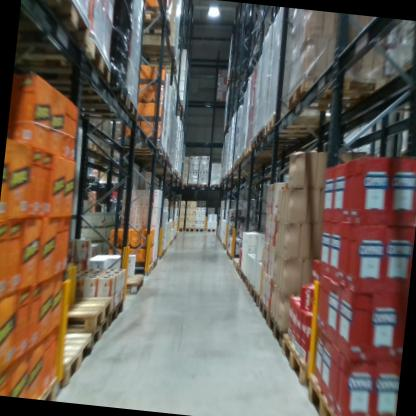pallet: (15, 21, 124, 88), (284, 69, 384, 120), (32, 62, 133, 111), (302, 369, 398, 416), (17, 0, 95, 51), (58, 84, 144, 126), (48, 325, 97, 389), (58, 287, 113, 337), (276, 327, 315, 393), (264, 108, 337, 142), (250, 133, 310, 156), (254, 123, 304, 149), (263, 308, 290, 355), (140, 7, 179, 39), (243, 140, 294, 162), (135, 40, 181, 63), (119, 133, 162, 156), (38, 370, 70, 400), (138, 55, 181, 76), (90, 309, 112, 349), (116, 271, 146, 297), (129, 142, 166, 161), (106, 293, 125, 327), (238, 155, 274, 167), (130, 259, 153, 276), (256, 296, 269, 326), (248, 281, 262, 307), (241, 149, 267, 163), (231, 255, 250, 272), (244, 275, 252, 293), (234, 262, 242, 279), (238, 267, 246, 284), (108, 179, 121, 189), (155, 249, 164, 261), (208, 182, 221, 190), (89, 173, 98, 183), (183, 225, 194, 233), (193, 226, 205, 233), (179, 180, 188, 189), (85, 169, 91, 182), (196, 182, 209, 188), (152, 256, 158, 267), (187, 182, 198, 188), (206, 227, 216, 233), (177, 226, 184, 232)
